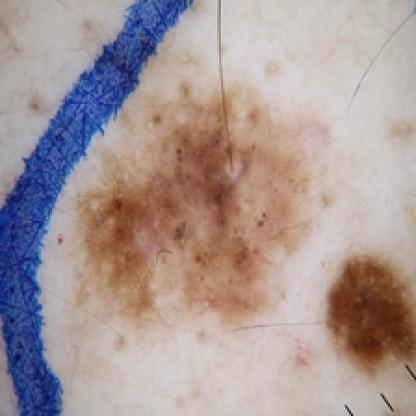benign: (91, 152, 414, 388)
